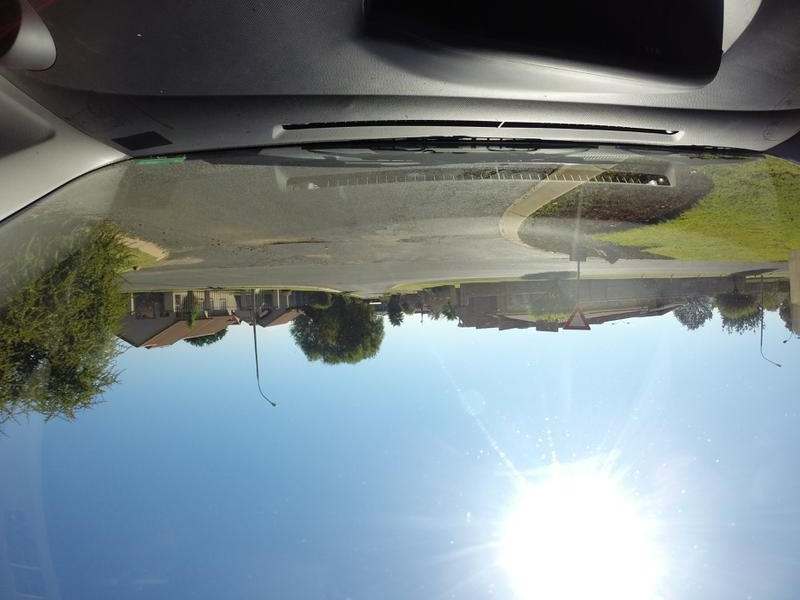pothole: (250, 234, 332, 245), (443, 169, 516, 177), (390, 232, 442, 243)
